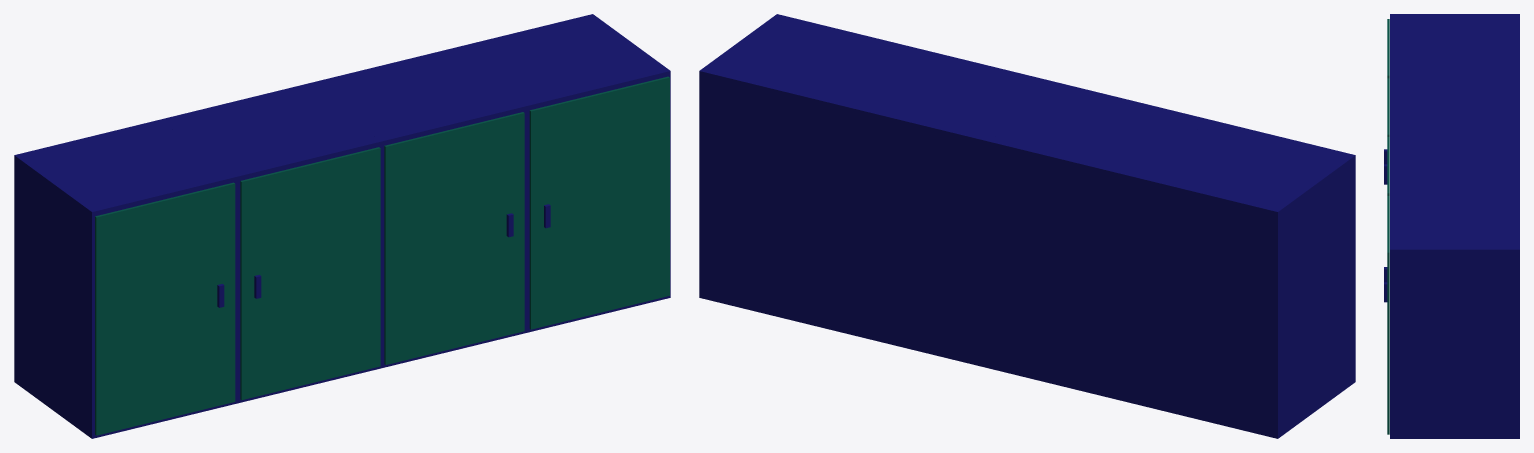
Rendered from Cupboards_Top.FBX.
3 views of the same model, side by side, from view 1: azimuth 30°, elevation 25°; view 2: azimuth 150°, elevation 25°; view 3: azimuth 270°, elevation 25° (orthographic). The views are drawn at different scales.
Parts seen in each view (by area): view 1: Kitchen_Cupboard_Door_Top_03, Kitchen_Cupboard_Door_Top_04, Kitchen_Cupboard_Door_Top_01, Kitchen_Cupboard_Door_Top_02, Kitchen_Cupboard_Top_01, Kitchen_Cupboard_Top_02, Kitchen_Cupboard_Top_03, Kitchen_Cupboard_Top_04; view 2: Kitchen_Cupboard_Top_01, Kitchen_Cupboard_Top_02, Kitchen_Cupboard_Top_04, Kitchen_Cupboard_Top_03; view 3: Kitchen_Cupboard_Top_04, Kitchen_Cupboard_Top_01, Kitchen_Cupboard_Top_02, Kitchen_Cupboard_Top_03, Kitchen_Cupboard_Door_Top_04, Kitchen_Cupboard_Door_Top_02, Kitchen_Cupboard_Door_Top_01, Kitchen_Cupboard_Door_Top_03.
Part boxes in pixels (box(x1,y1,x2,y2)): Kitchen_Cupboard_Door_Top_03: box(384, 112, 524, 364); Kitchen_Cupboard_Door_Top_04: box(529, 76, 669, 329); Kitchen_Cupboard_Door_Top_01: box(95, 182, 235, 435); Kitchen_Cupboard_Door_Top_02: box(240, 147, 380, 399); Kitchen_Cupboard_Top_01: box(14, 120, 236, 438); Kitchen_Cupboard_Top_02: box(159, 84, 381, 403); Kitchen_Cupboard_Top_03: box(304, 49, 525, 368); Kitchen_Cupboard_Top_04: box(448, 14, 670, 332); Kitchen_Cupboard_Top_01: box(1133, 120, 1355, 438); Kitchen_Cupboard_Top_02: box(988, 84, 1210, 403); Kitchen_Cupboard_Top_04: box(699, 14, 921, 332); Kitchen_Cupboard_Top_03: box(844, 49, 1065, 368); Kitchen_Cupboard_Top_04: box(1390, 190, 1519, 438); Kitchen_Cupboard_Top_01: box(1390, 14, 1519, 72); Kitchen_Cupboard_Top_02: box(1390, 73, 1519, 131); Kitchen_Cupboard_Top_03: box(1390, 132, 1519, 190); Kitchen_Cupboard_Door_Top_04: box(1384, 196, 1389, 434); Kitchen_Cupboard_Door_Top_02: box(1384, 78, 1389, 184); Kitchen_Cupboard_Door_Top_01: box(1384, 19, 1389, 164); Kitchen_Cupboard_Door_Top_03: box(1384, 137, 1389, 282).
Bounding box in the file's own units: 403 × 151 × 98.11.
